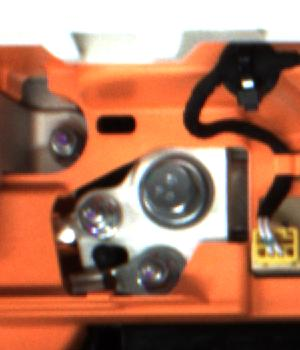nut_b: (128, 147, 222, 236)
